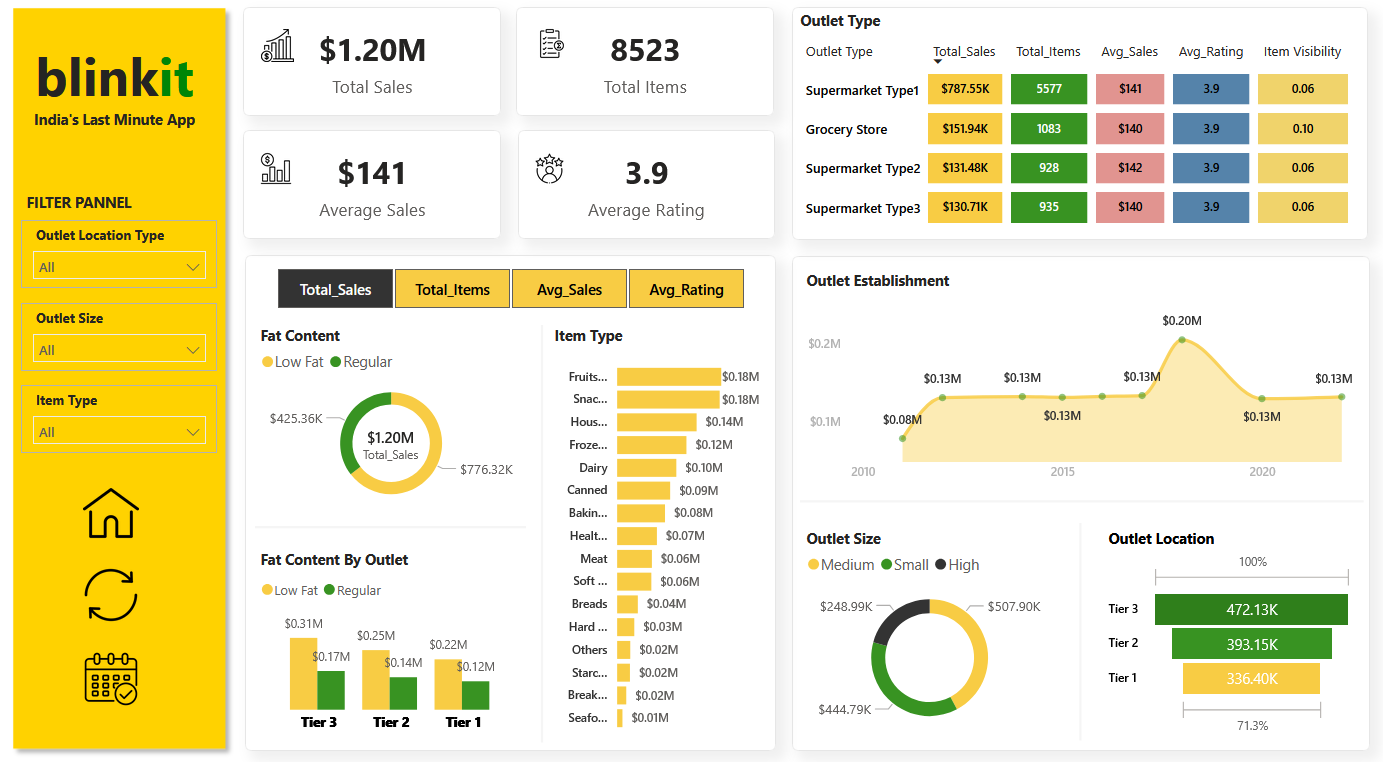

Layout of this report page (visuals, bound fields, positions):
{"tool":"powerbi","page":{"name":"Page 1","canvas":[1280,720],"ordinal":0},"visuals":[{"type":"shape","box":[724,247,530,454],"z":0},{"type":"shape","box":[0,11,212.4,697.1],"z":1000},{"type":"textbox","box":[11.2,42.5,182.5,93.8],"z":2000},{"type":"card","fields":{"Values":["BlinkIT Grocery Data.Total_Sales"]},"box":[220,19,237,100],"z":3000},{"type":"card","fields":{"Values":["BlinkIT Grocery Data.Total_Items"]},"box":[471,18.8,237,100],"z":4000},{"type":"card","fields":{"Values":["BlinkIT Grocery Data.Avg_Sales"]},"box":[220,132.6,237,100],"z":5000},{"type":"card","fields":{"Values":["BlinkIT Grocery Data.Avg_Rating"]},"box":[471.2,132.5,236.2,100],"z":6000},{"type":"image","box":[228.5,147.6,43.8,40],"z":7000},{"type":"image","box":[480.7,147.4,42.5,40],"z":8000},{"type":"image","box":[481.4,33.7,43.8,40],"z":9000},{"type":"image","box":[229.2,33.9,43.8,40],"z":10000},{"type":"shape","box":[221.2,246.2,487.5,455],"z":11000},{"type":"donutChart","title":"Fat Content","fields":{"Y":["BlinkIT Grocery Data.Total_Sales"],"Category":["BlinkIT Grocery Data.Item Fat Content"]},"box":[231,311,248.8,173.8],"z":12000},{"type":"slicer","fields":{"Values":["Metric.Metric"]},"box":[231.2,257.5,467.5,40],"z":13000},{"type":"cardVisual","fields":{"Data":["BlinkIT Grocery Data.Total_Sales"]},"box":[316.7,392.5,78.8,51.2],"z":14000},{"type":"clusteredColumnChart","title":"Fat Content By Outlet","fields":{"Y":["BlinkIT Grocery Data.Total_Sales"],"Category":["BlinkIT Grocery Data.Outlet Location Type"],"Series":["BlinkIT Grocery Data.Item Fat Content"]},"box":[231,516,248.8,177.5],"z":15000},{"type":"shape","box":[231,484,249,24],"z":16000},{"type":"clusteredBarChart","title":"Item Type","fields":{"Y":["BlinkIT Grocery Data.Total_Sales"],"Category":["BlinkIT Grocery Data.Item Type"]},"box":[501.2,311.2,197.5,382.5],"z":17000},{"type":"lineChart","title":"Outlet Establishment ","fields":{"Y":["BlinkIT Grocery Data.Total_Sales"],"Category":["BlinkIT Grocery Data.Outlet Establishment Year"]},"box":[732.5,260,512.5,203.2],"z":18000},{"type":"donutChart","title":"Outlet Size","fields":{"Y":["BlinkIT Grocery Data.Total_Sales"],"Category":["BlinkIT Grocery Data.Outlet Size"]},"box":[732.5,496.2,235,195.8],"z":19000},{"type":"funnel","title":"Outlet Location","fields":{"Y":["Sum(BlinkIT Grocery Data.Sales)"],"Category":["BlinkIT Grocery Data.Outlet Location Type"]},"box":[1008,497,235,195],"z":20000},{"type":"pivotTable","title":"Outlet Type","fields":{"Rows":["BlinkIT Grocery Data.Outlet Type"],"Values":["BlinkIT Grocery Data.Total_Sales","BlinkIT Grocery Data.Total_Items","BlinkIT Grocery Data.Avg_Sales","BlinkIT Grocery Data.Avg_Rating","Avg(BlinkIT Grocery Data.Item Visibility)"]},"box":[723.8,18.8,528.8,213.8],"z":21000},{"type":"slicer","fields":{"Values":["BlinkIT Grocery Data.Outlet Location Type"]},"box":[16.2,215,180,62.5],"z":22000},{"type":"slicer","fields":{"Values":["BlinkIT Grocery Data.Outlet Size"]},"box":[16.2,290.6,180,62.5],"z":23000},{"type":"slicer","fields":{"Values":["BlinkIT Grocery Data.Item Type"]},"box":[16.2,366.2,180,62.5],"z":24000},{"type":"image","box":[68.8,528.9,61,61],"z":25000},{"type":"image","box":[68.8,452.5,61,61.2],"z":26000},{"type":"image","box":[68.8,605,61,61.2],"z":27000},{"type":"textbox","box":[16.2,182.5,123.8,28.8],"z":28000},{"type":"shape","box":[489,311,12,383],"z":29000},{"type":"shape","box":[730,460,517.5,26.2],"z":30000},{"type":"shape","box":[980,493,17.2,199.5],"z":31000}]}

Visuals, with their boxes in screenshot pixels (x1, y1, x2, y2), scaled from the page's 1280x720 canvas onto the 1383x762 screenshot:
shape: detection(782, 261, 1355, 742)
shape: detection(0, 12, 229, 749)
textbox: detection(12, 45, 209, 144)
card - BlinkIT Grocery Data.Total_Sales: detection(238, 20, 494, 126)
card - BlinkIT Grocery Data.Total_Items: detection(509, 20, 765, 126)
card - BlinkIT Grocery Data.Avg_Sales: detection(238, 140, 494, 246)
card - BlinkIT Grocery Data.Avg_Rating: detection(509, 140, 764, 246)
image: detection(247, 156, 294, 199)
image: detection(519, 156, 565, 198)
image: detection(520, 36, 567, 78)
image: detection(248, 36, 295, 78)
shape: detection(239, 261, 766, 742)
"Fat Content" donutChart: detection(250, 329, 518, 513)
slicer - Metric.Metric: detection(250, 273, 755, 315)
cardVisual - BlinkIT Grocery Data.Total_Sales: detection(342, 415, 427, 470)
"Fat Content By Outlet" clusteredColumnChart: detection(250, 546, 518, 734)
shape: detection(250, 512, 519, 538)
"Item Type" clusteredBarChart: detection(542, 329, 755, 734)
"Outlet Establishment " lineChart: detection(791, 275, 1345, 490)
"Outlet Size" donutChart: detection(791, 525, 1045, 732)
"Outlet Location" funnel: detection(1089, 526, 1343, 732)
"Outlet Type" pivotTable: detection(782, 20, 1353, 246)
slicer - BlinkIT Grocery Data.Outlet Location Type: detection(18, 228, 212, 294)
slicer - BlinkIT Grocery Data.Outlet Size: detection(18, 308, 212, 374)
slicer - BlinkIT Grocery Data.Item Type: detection(18, 388, 212, 454)
image: detection(74, 560, 140, 624)
image: detection(74, 479, 140, 544)
image: detection(74, 640, 140, 705)
textbox: detection(18, 193, 151, 224)
shape: detection(528, 329, 541, 734)
shape: detection(789, 487, 1348, 515)
shape: detection(1059, 522, 1077, 733)
